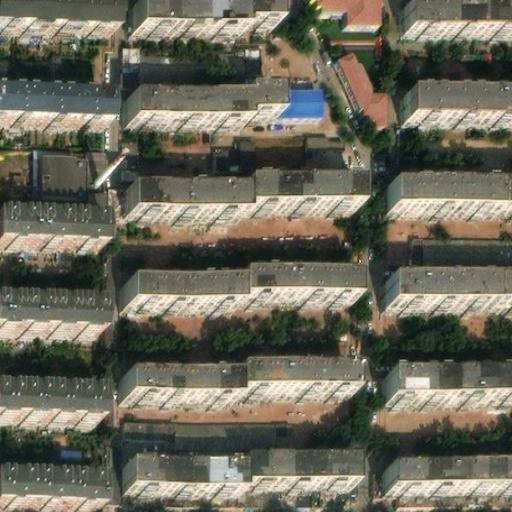building: (125, 177, 357, 210), (122, 458, 350, 491), (121, 274, 350, 305), (118, 370, 346, 399), (126, 86, 276, 119), (336, 44, 397, 122), (128, 0, 270, 32), (129, 54, 262, 85), (384, 371, 512, 399), (0, 385, 98, 420), (409, 84, 512, 117), (387, 275, 512, 302), (0, 295, 98, 329), (0, 90, 105, 121), (387, 179, 512, 205), (0, 210, 98, 243), (410, 239, 512, 269), (385, 466, 512, 489), (409, 0, 512, 26), (35, 152, 89, 196), (299, 135, 344, 170), (276, 81, 322, 113), (398, 488, 512, 500), (318, 0, 381, 18)
